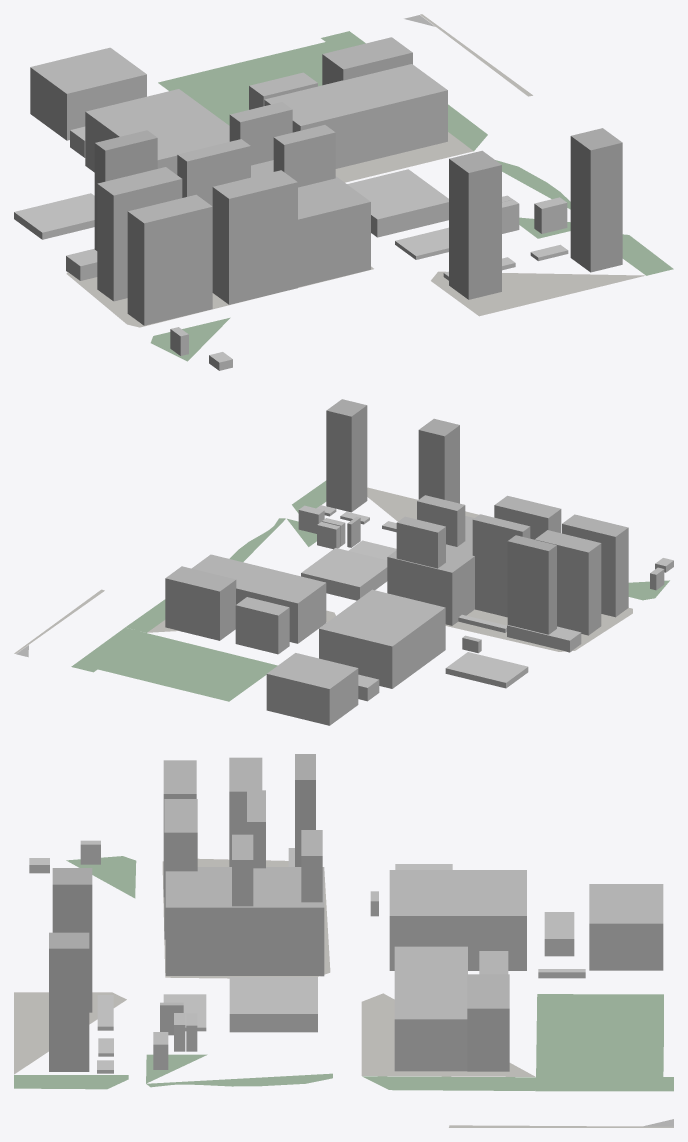
File: 125_76_mid.glb
3 views of the same model, one above another, from view 1: azimuth 30°, elevation 25°; view 2: azimuth 150°, elevation 25°; view 3: azimuth 270°, elevation 25° (orthographic). The views are drawn at different scales.
Bounding box in the file's own units: 481 × 110 × 500.
